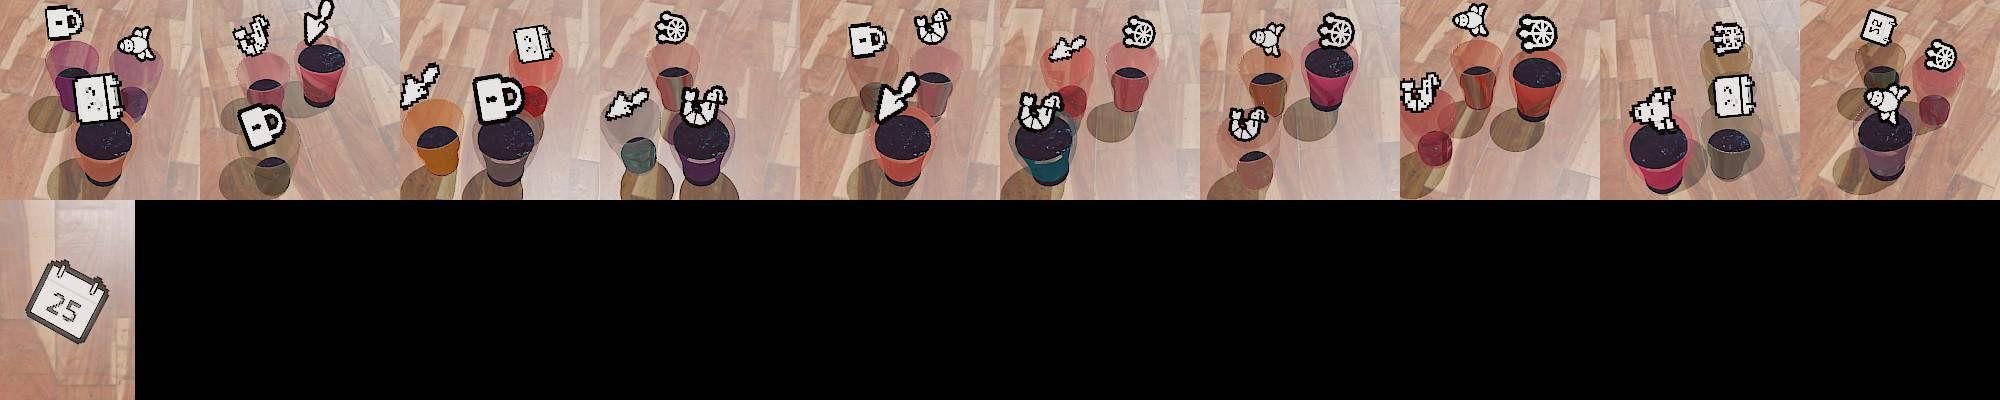icon: (22, 259, 110, 346), (70, 71, 124, 122), (472, 73, 526, 124), (875, 71, 925, 122), (236, 102, 287, 150), (1630, 84, 1679, 132), (681, 82, 728, 127), (1708, 74, 1756, 118), (399, 61, 443, 111), (1017, 87, 1062, 131), (514, 24, 556, 65), (1864, 84, 1908, 122), (605, 85, 651, 122), (1517, 13, 1557, 54), (232, 14, 270, 57), (1401, 73, 1440, 113), (45, 4, 84, 45), (848, 20, 890, 59), (301, 0, 335, 46), (912, 8, 952, 46), (1452, 1, 1490, 39), (1860, 9, 1898, 47), (1318, 11, 1355, 51), (1228, 104, 1268, 141), (1249, 20, 1286, 57), (117, 24, 154, 61), (653, 10, 690, 46), (1046, 33, 1087, 64), (1709, 20, 1744, 56), (1922, 39, 1958, 74), (1121, 14, 1156, 50)
